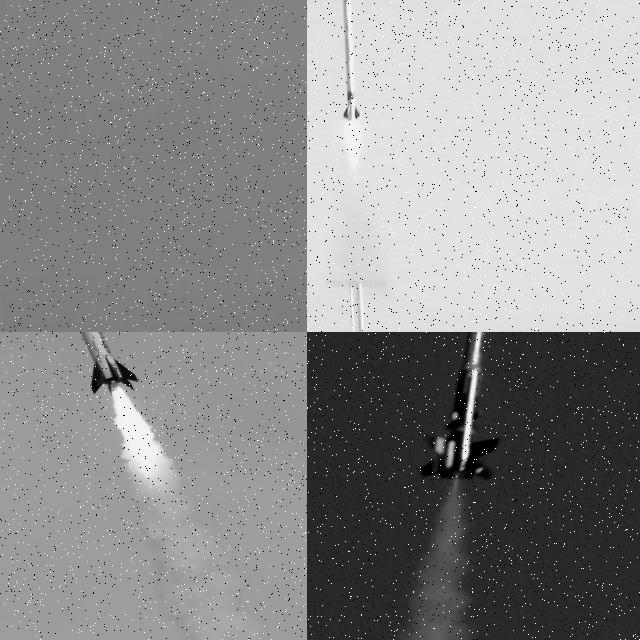Rocket: (417, 332, 506, 483), (58, 332, 139, 395), (341, 0, 360, 120)
